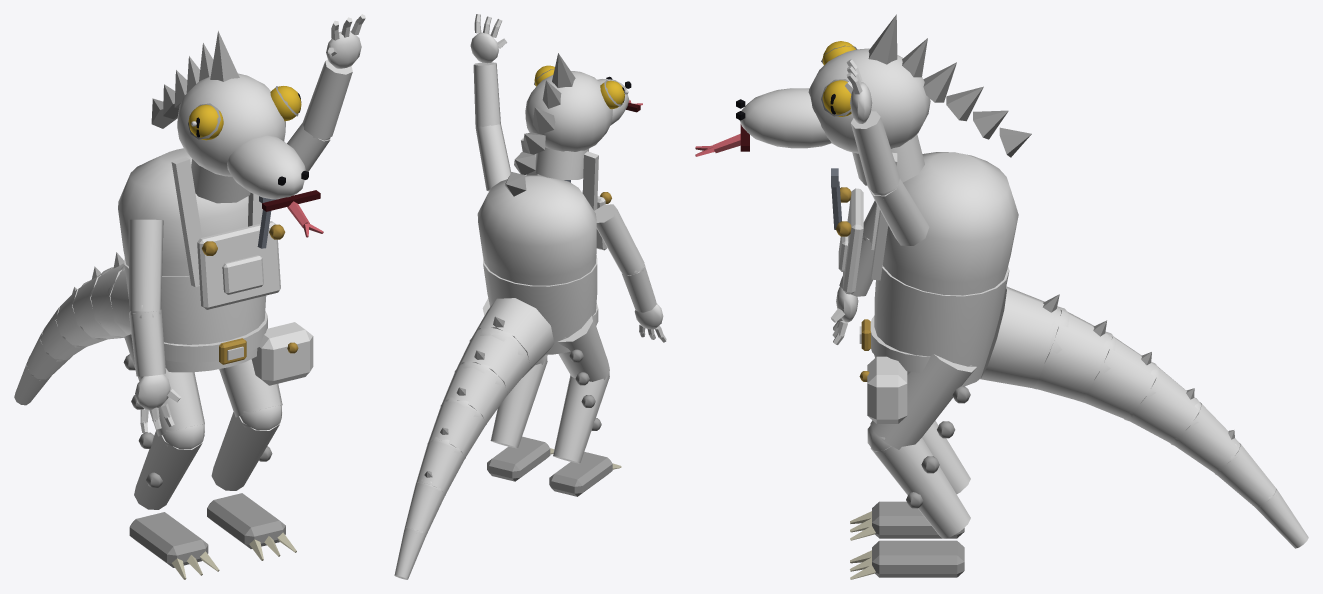
File: alien_lizard.fbx
3 views of the same model, side by side, from view 1: azimuth 30°, elevation 25°; view 2: azimuth 150°, elevation 25°; view 3: azimuth 270°, elevation 25° (orthographic). The views are drawn at different scales.
Parts seen in each view (by area): view 1: alien_lizard, alien_lizard__gesture; view 2: alien_lizard, alien_lizard__gesture; view 3: alien_lizard, alien_lizard__gesture.
Part boxes in pixels (x1=…): alien_lizard: x1=14, y1=31, x2=323, y2=579; alien_lizard__gesture: x1=287, y1=14, x2=365, y2=171; alien_lizard: x1=394, y1=53, x2=666, y2=579; alien_lizard__gesture: x1=470, y1=14, x2=511, y2=191; alien_lizard: x1=695, y1=14, x2=1308, y2=579; alien_lizard__gesture: x1=845, y1=59, x2=929, y2=245.
Bounding box in the file's own units: 0.1781 × 0.3863 × 0.3973.
